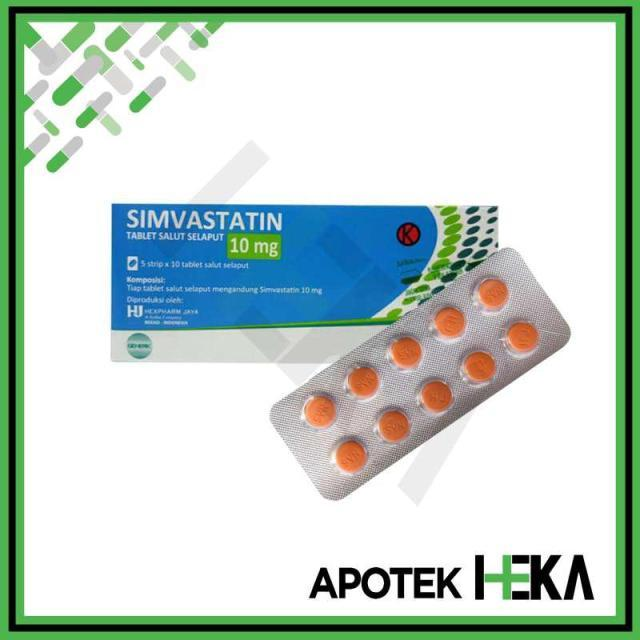drug-name: (125, 207, 284, 234)
